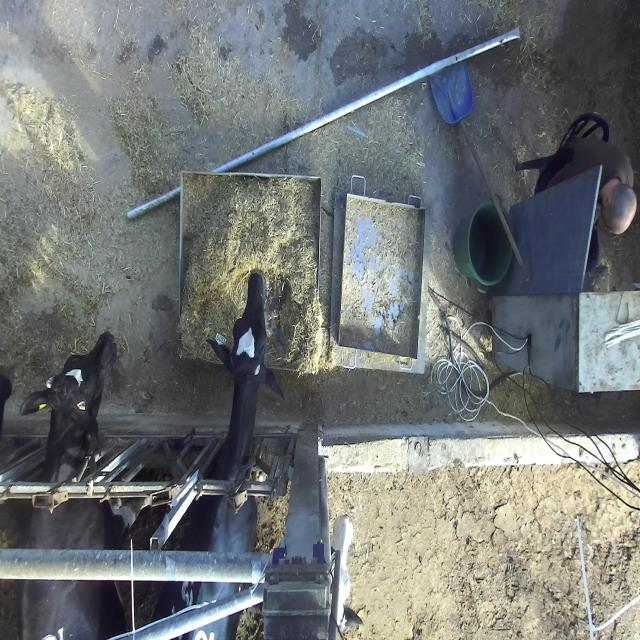cow: (20, 331, 116, 459), (204, 269, 284, 399)
